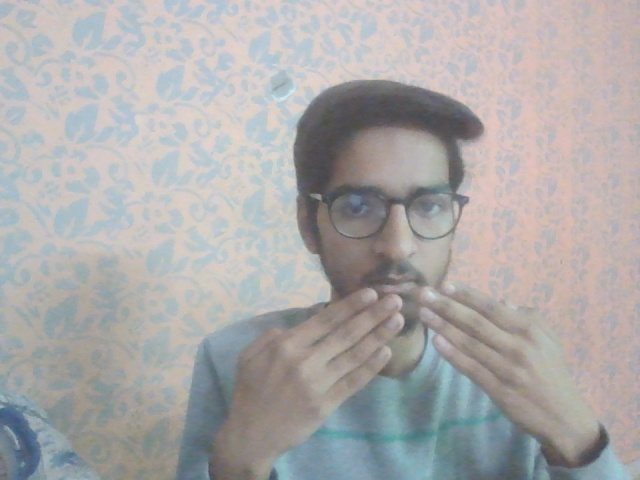ThankYou: (216, 278, 599, 465)
